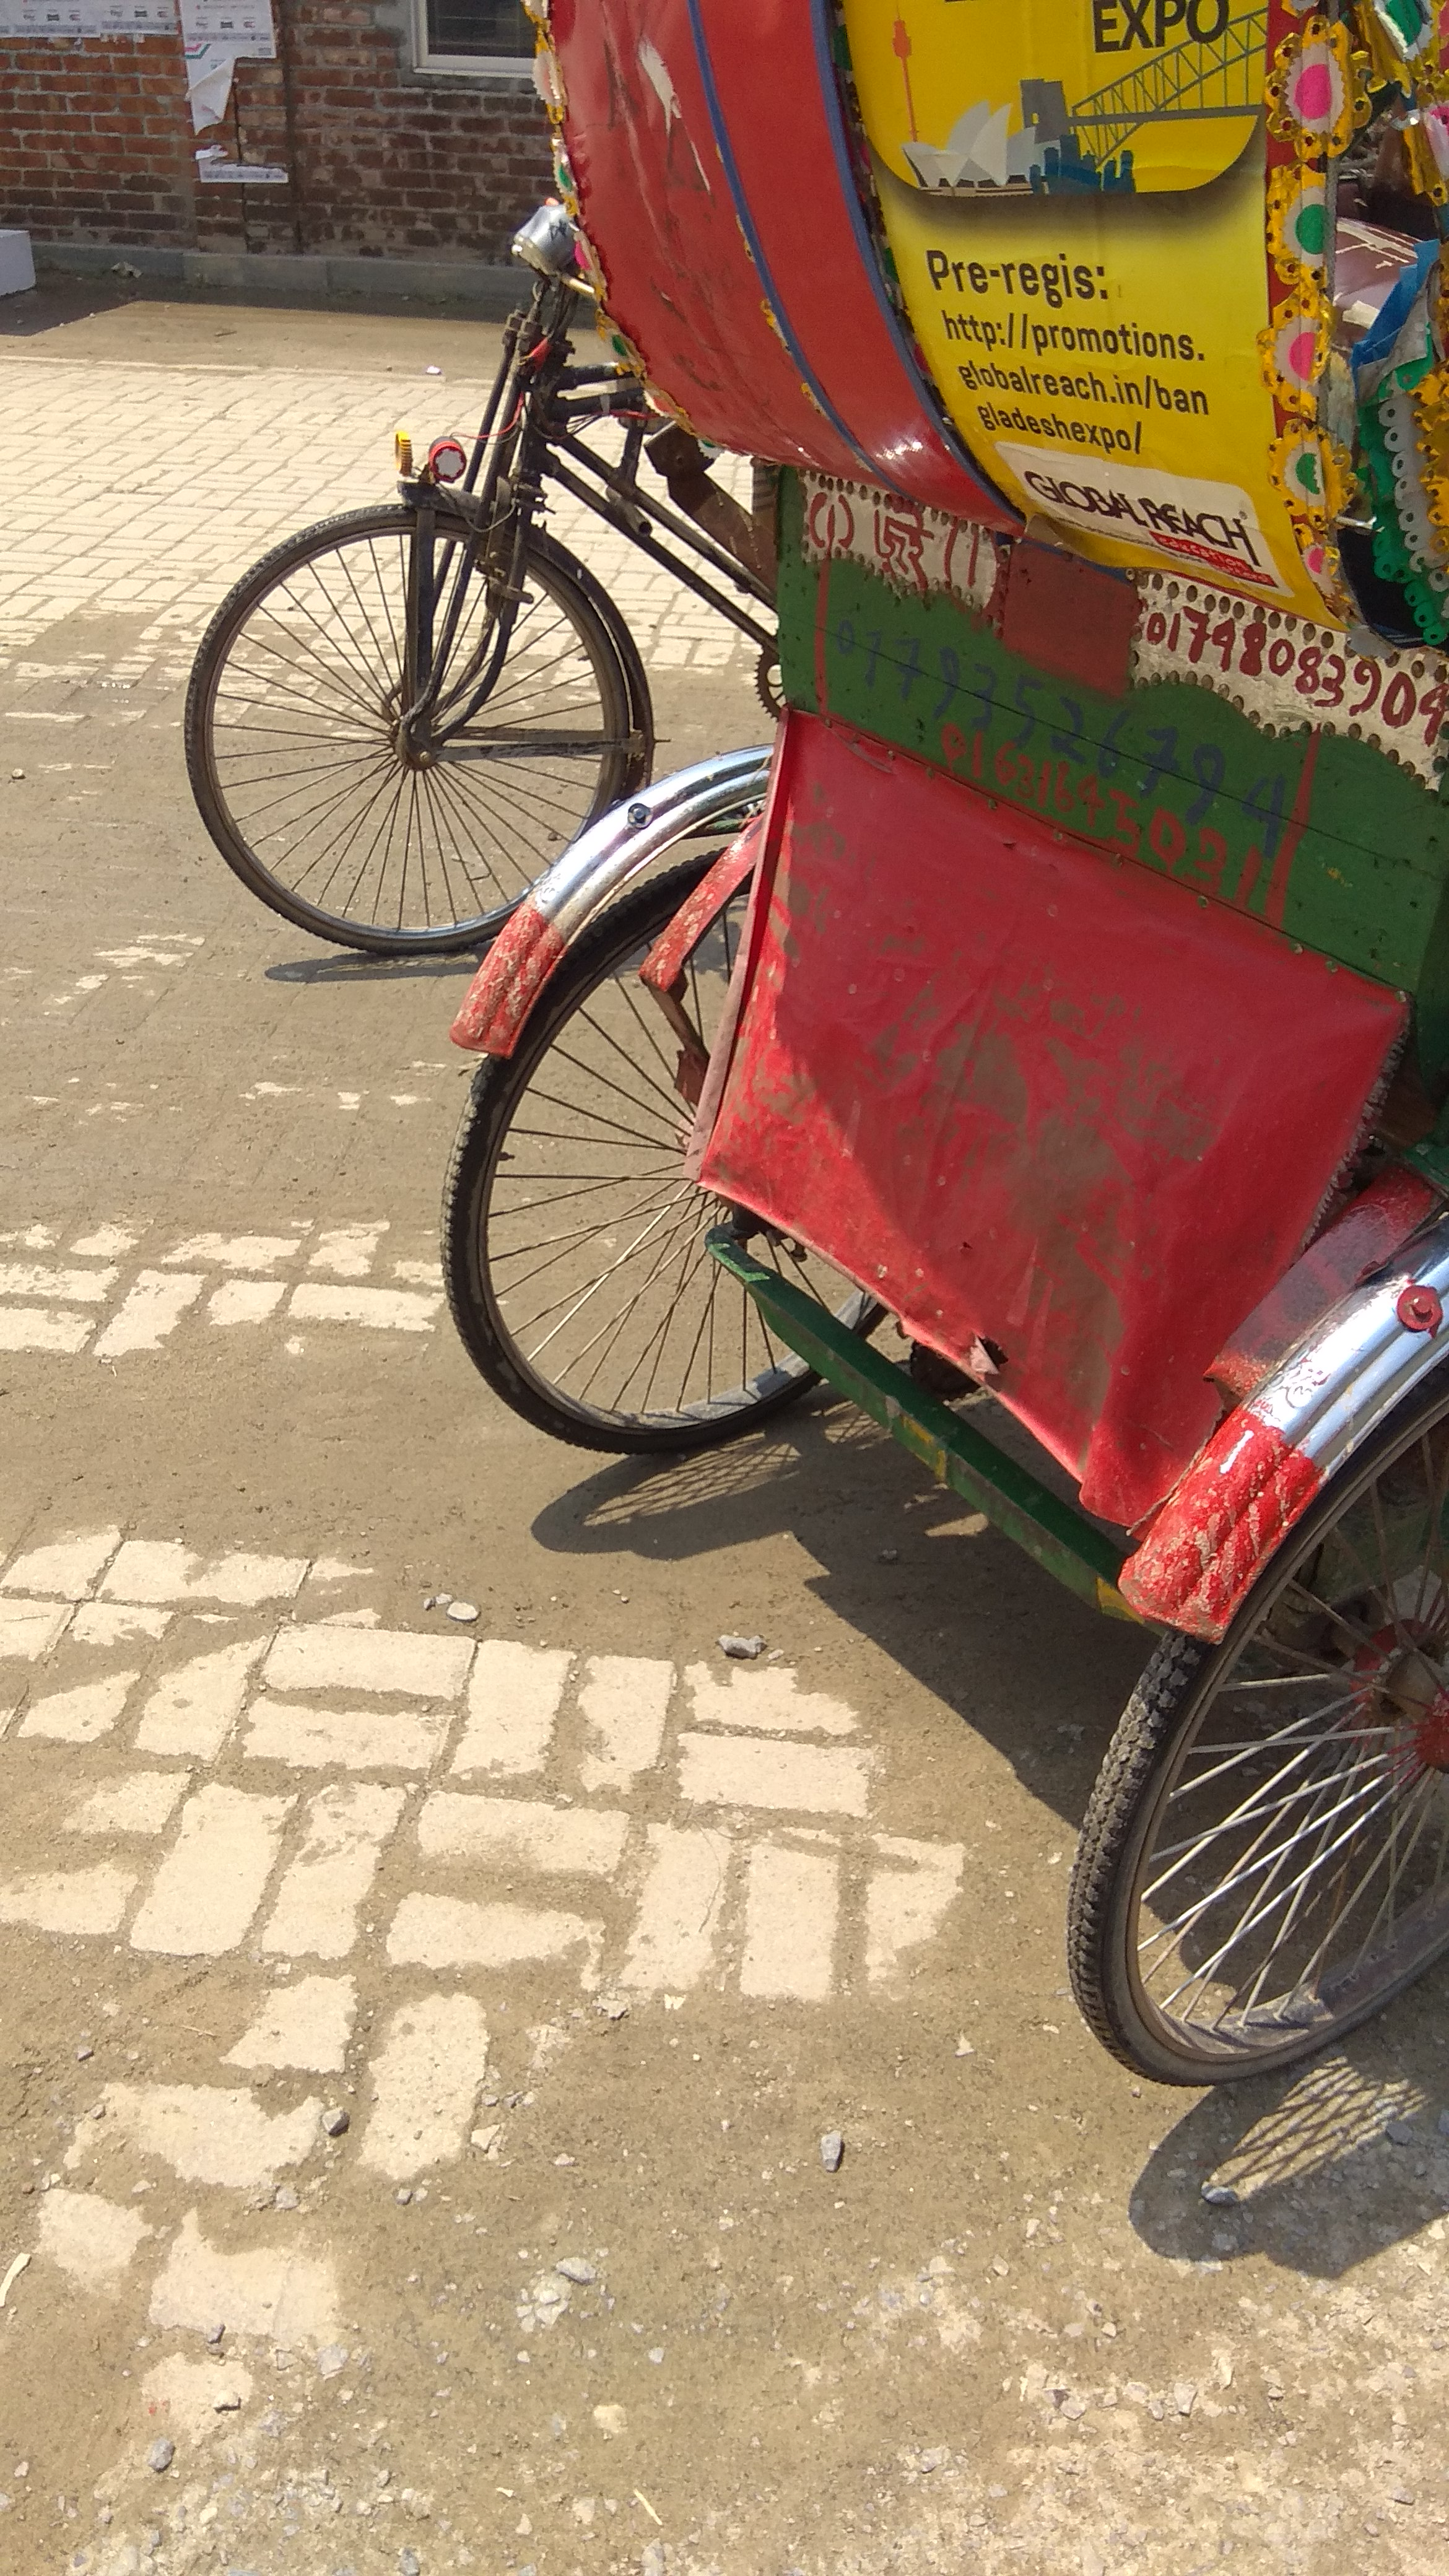Rickshaw: (479, 7, 1447, 2107), (152, 147, 824, 929)
